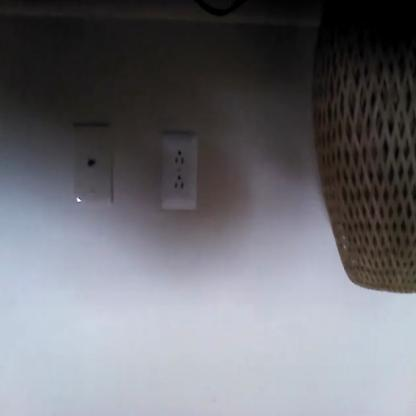OUTLET: (160, 134, 199, 209)
